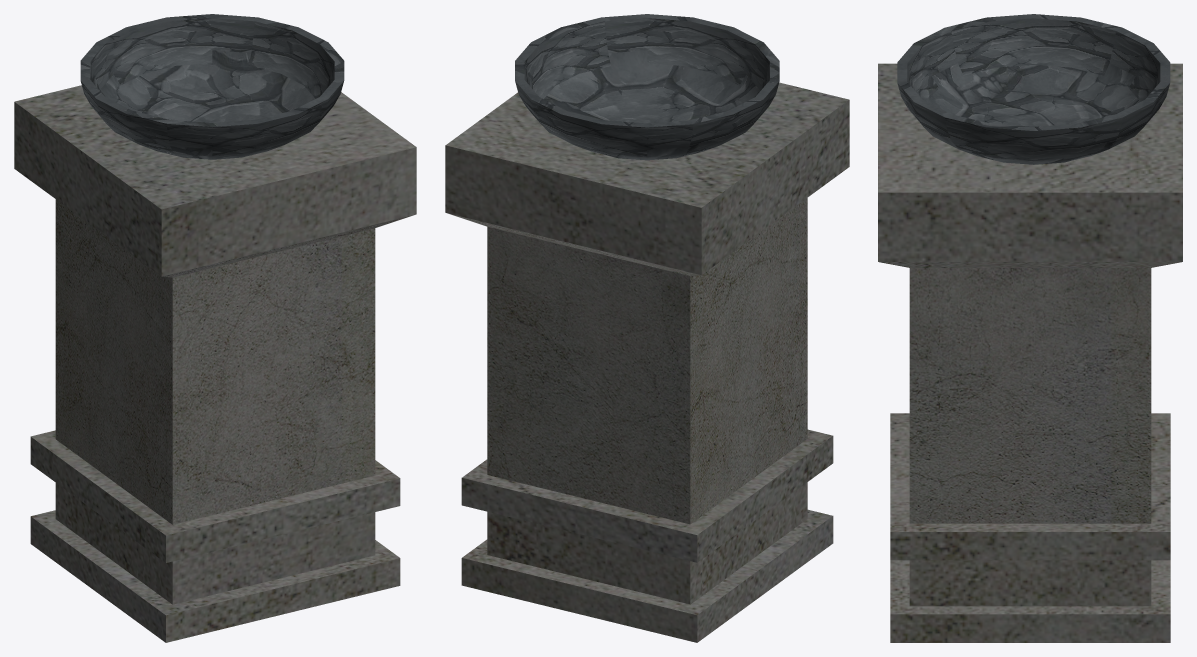
Rendered from smallPillar.FBX.
3 views of the same model, side by side, from view 1: azimuth 30°, elevation 25°; view 2: azimuth 150°, elevation 25°; view 3: azimuth 270°, elevation 25° (orthographic). The views are drawn at different scales.
Parts seen in each view (by area): view 1: pillar_LP017, Cylinder005; view 2: pillar_LP017, Cylinder005; view 3: pillar_LP017, Cylinder005.
Part boxes in pixels (x1=…): pillar_LP017: x1=14, y1=85, x2=416, y2=642; Cylinder005: x1=80, y1=14, x2=344, y2=159; pillar_LP017: x1=445, y1=82, x2=849, y2=642; Cylinder005: x1=515, y1=14, x2=779, y2=160; pillar_LP017: x1=878, y1=63, x2=1182, y2=642; Cylinder005: x1=897, y1=14, x2=1170, y2=164.
Bounding box in the file's own units: 15.45 × 28.55 × 15.45.
2 materials, 2 textured.
